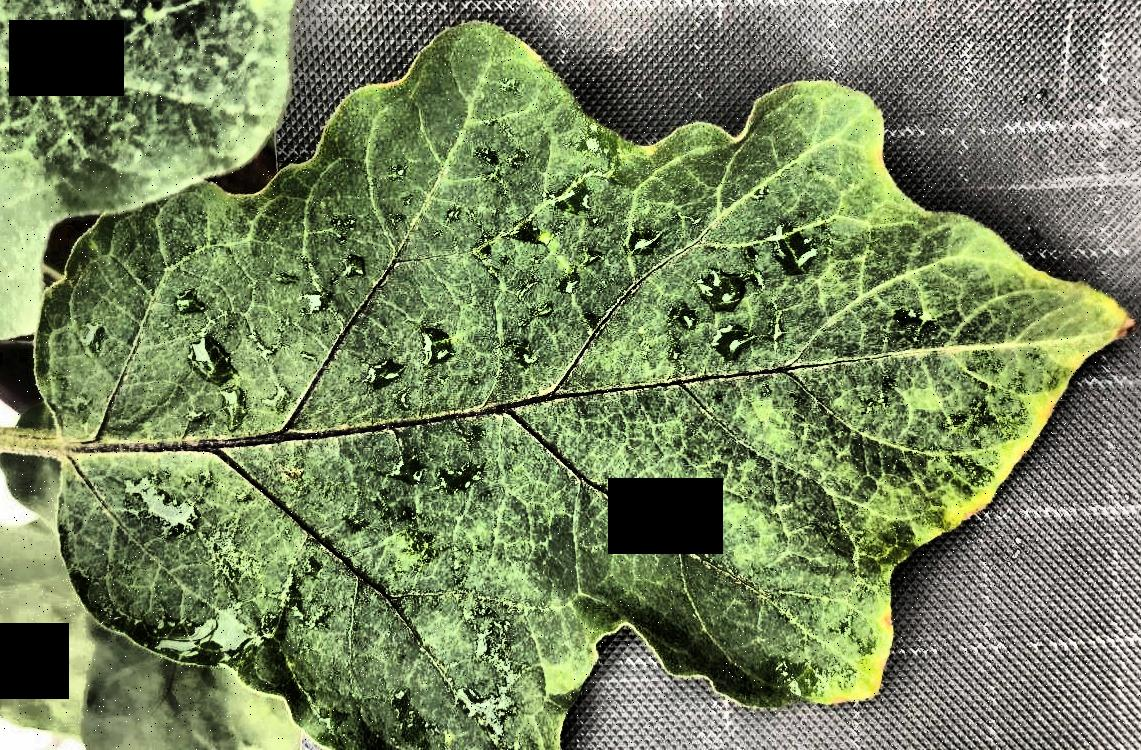Non-critical Stress: (1, 0, 1141, 750)
